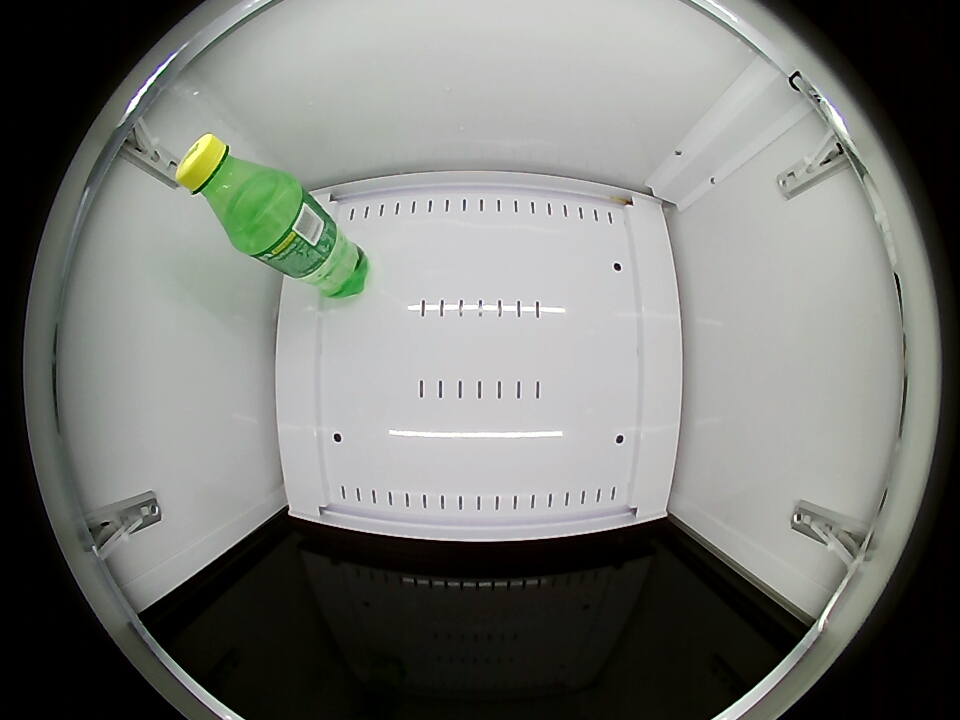xuebi-b: (175, 133, 286, 242)
